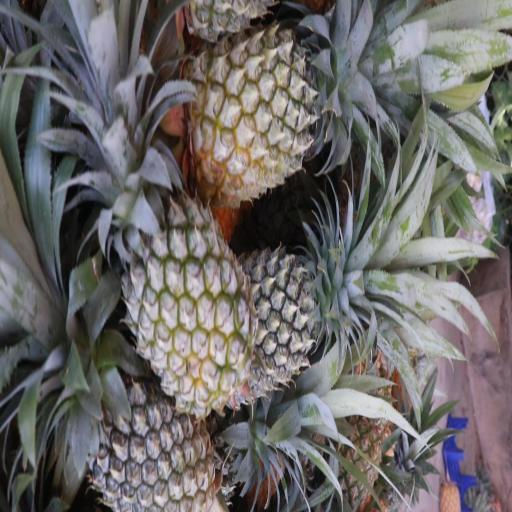------------------------------: (186, 34, 367, 195), (118, 197, 251, 410)
